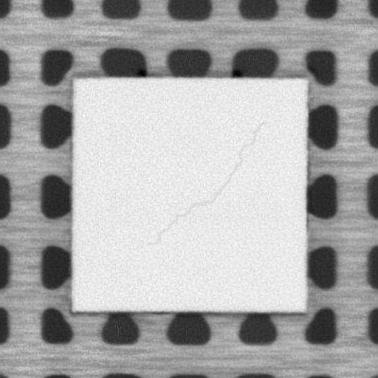DIE_CRACK: (149, 119, 266, 250)
